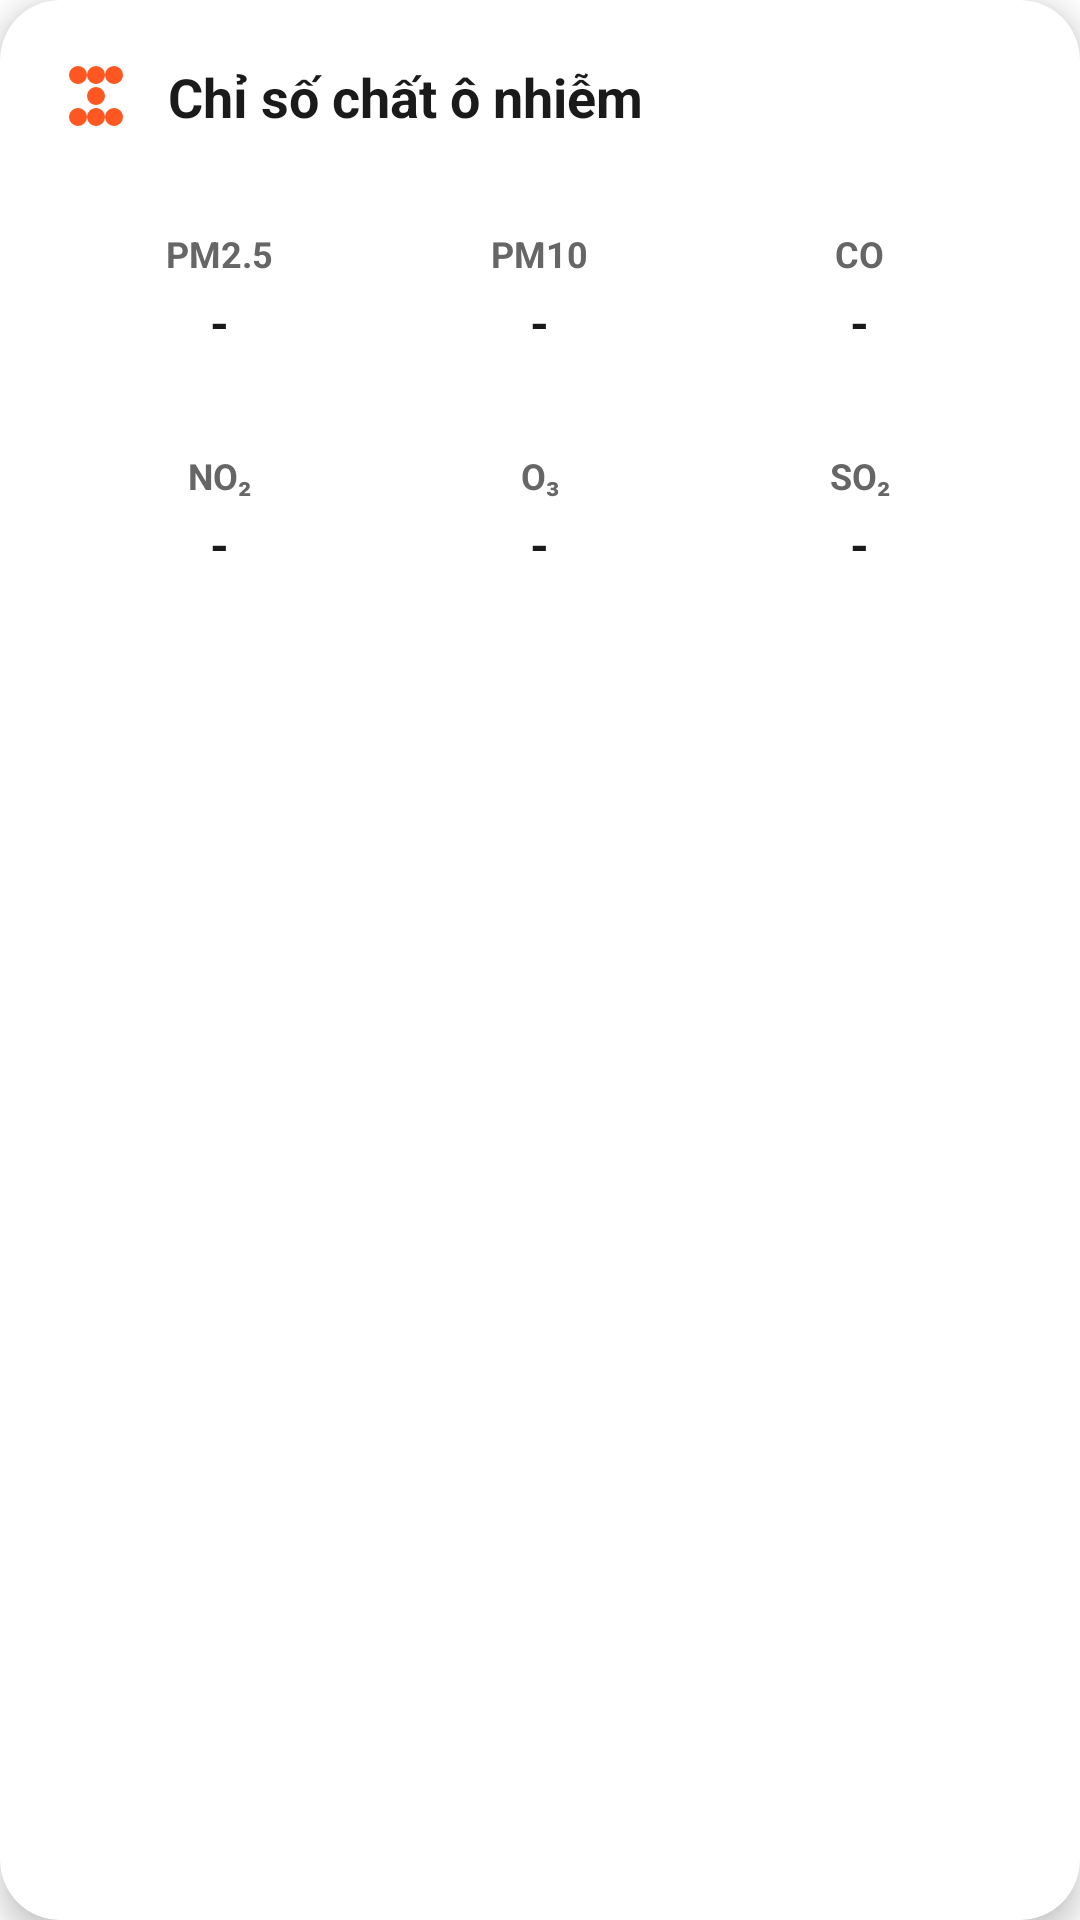

Icons on this 1080*1920 Android screen, each with the point to tap as point (x, y):
Biểu tượng chất ô nhiễm: point (96, 96)
